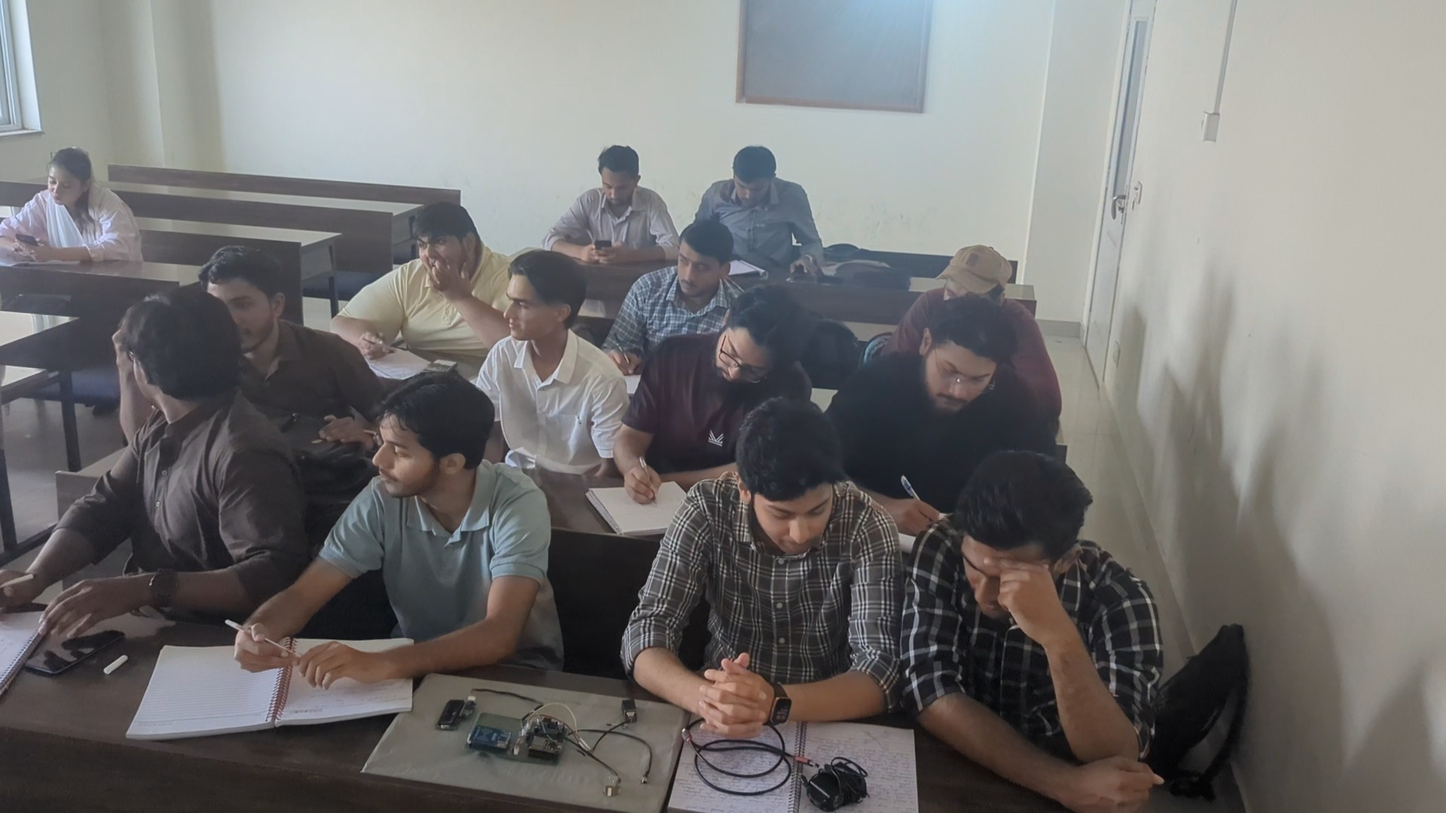look_forward: (307, 363, 565, 668), (471, 249, 626, 487), (328, 200, 519, 361), (621, 218, 736, 343), (918, 243, 1017, 303)
read: (911, 444, 1173, 809), (634, 397, 902, 746), (709, 142, 837, 284)
turn_head: (58, 287, 309, 624), (196, 233, 384, 422)
using_device: (535, 142, 698, 260), (5, 149, 148, 281)
write: (842, 304, 1018, 532), (621, 295, 804, 503)
